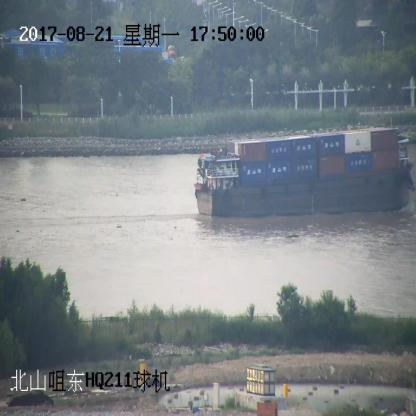Container Ship: (194, 128, 413, 216)
